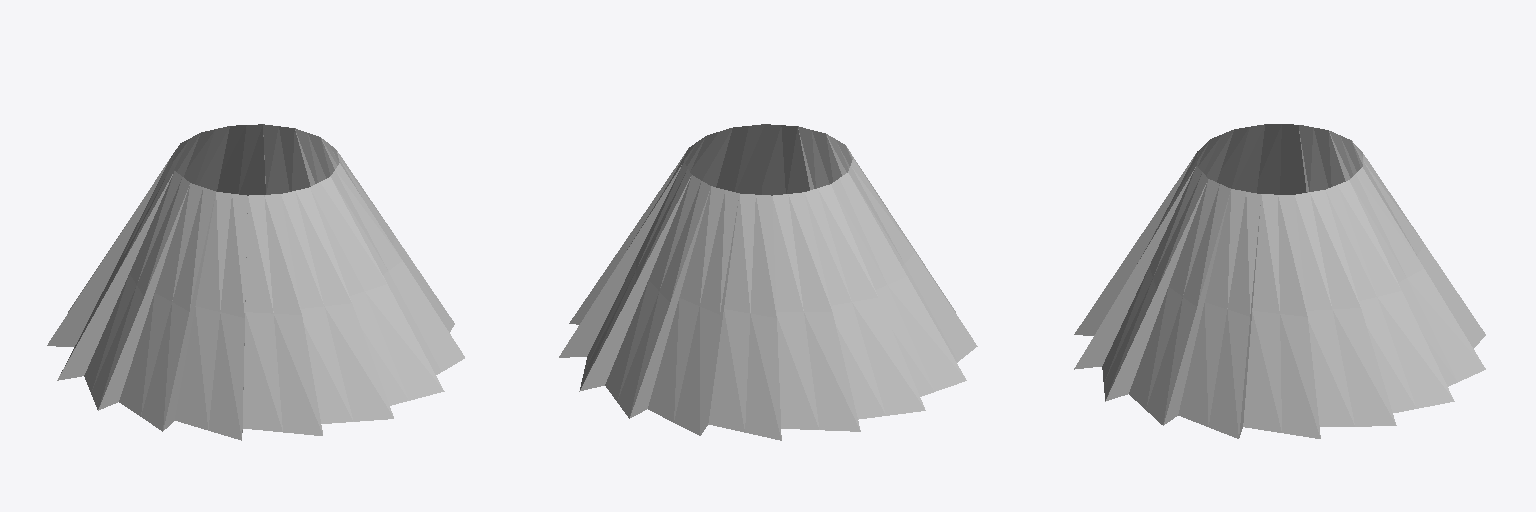
File: skirt4.obj
3 renders of one model, left to right at view 1: azimuth 30°, elevation 25°; view 2: azimuth 150°, elevation 25°; view 3: azimuth 270°, elevation 25°, orthographic.
Parts seen in each view (by area): view 1: LSKIRT.001; view 2: LSKIRT.001; view 3: LSKIRT.001.
Part boxes in pixels (x1,y1,x2,y2): LSKIRT.001: (47,124,464,440); LSKIRT.001: (559,124,977,440); LSKIRT.001: (1074,124,1485,438).
Size of the model in its own units: 2.63 by 1.35 by 2.63.